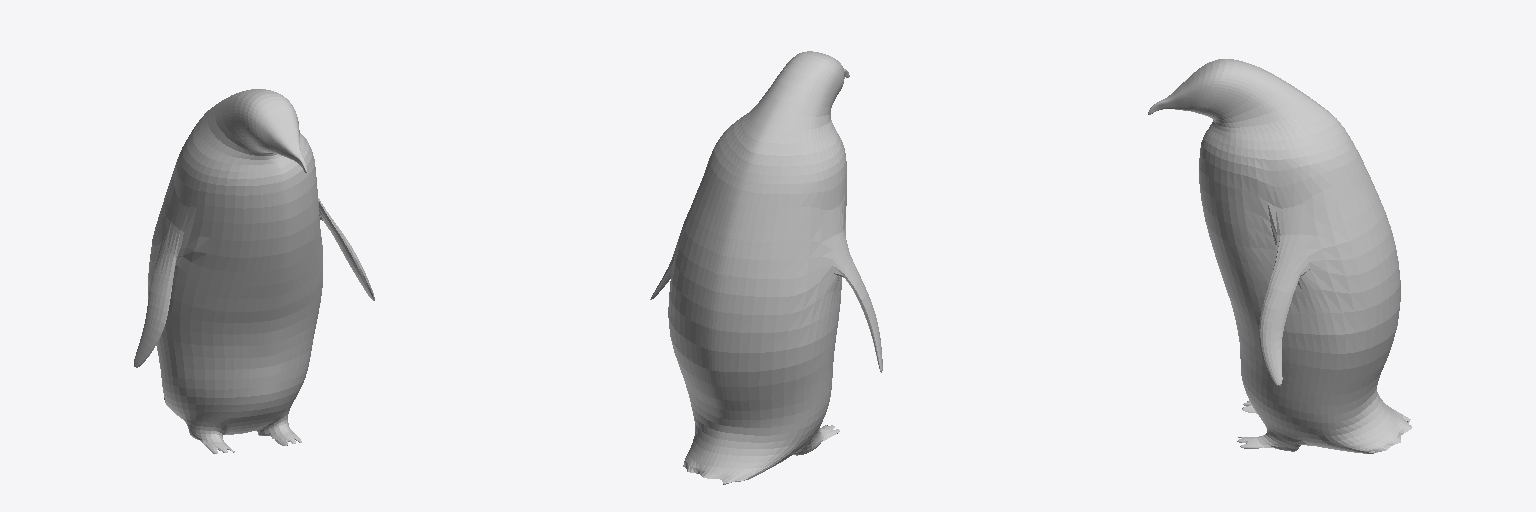
Rendered from RiggedPenguin_000011.obj.
3 renders of one model, left to right at view 1: azimuth 30°, elevation 25°; view 2: azimuth 150°, elevation 25°; view 3: azimuth 270°, elevation 25°, orthographic.
Parts seen in each view (by area): view 1: Penguin_Cylinder; view 2: Penguin_Cylinder; view 3: Penguin_Cylinder.
Boxes of the visible parts, x1=… form: Penguin_Cylinder: x1=134, y1=89, x2=374, y2=453; Penguin_Cylinder: x1=650, y1=51, x2=882, y2=484; Penguin_Cylinder: x1=1148, y1=59, x2=1411, y2=453.
Bounding box in the file's own units: 0.8055 × 1.21 × 0.7822.